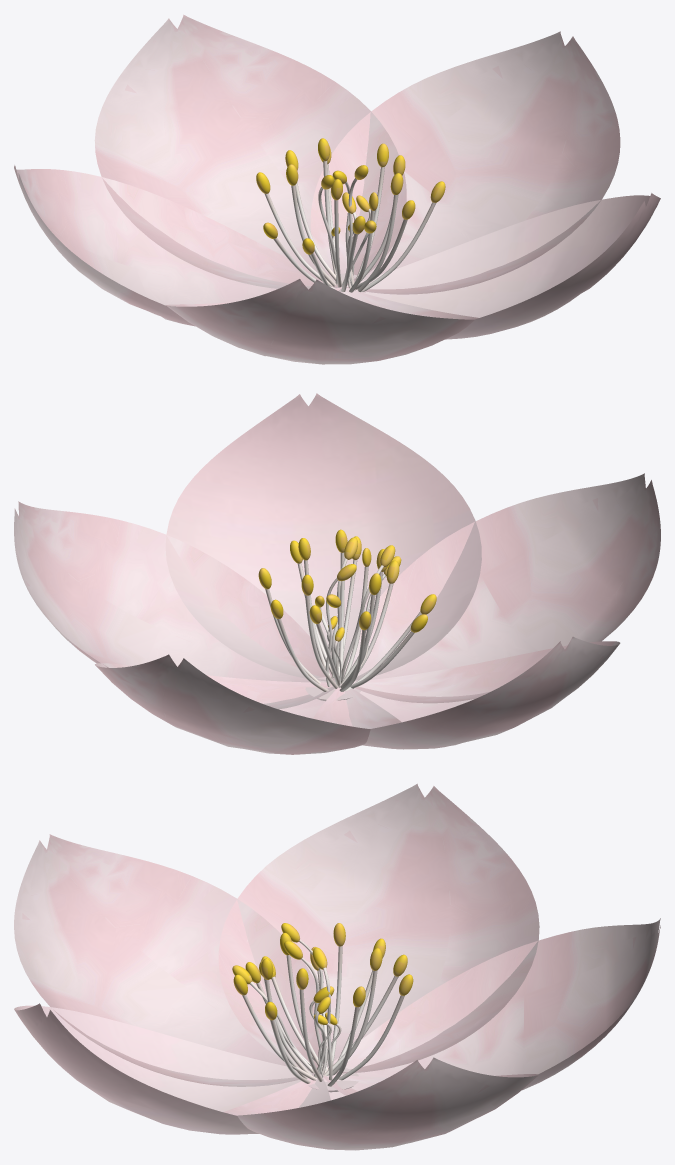
The model's file is cherryblossom.fbx.
3 renders of one model, top to bottom at view 1: azimuth 30°, elevation 25°; view 2: azimuth 150°, elevation 25°; view 3: azimuth 270°, elevation 25°, orthographic.
Visible parts, largest first — view 1: nurbsToPoly2, nurbsToPoly6, nurbsToPoly3, nurbsToPoly5, nurbsToPoly4, extrudedSurface13; view 2: nurbsToPoly5, nurbsToPoly4, nurbsToPoly6, nurbsToPoly3, nurbsToPoly2; view 3: nurbsToPoly3, nurbsToPoly4, nurbsToPoly2, nurbsToPoly5, nurbsToPoly6.
Part boxes in pixels (<box>): nurbsToPoly2: <box>94,14,406,289</box>; nurbsToPoly6: <box>310,31,620,294</box>; nurbsToPoly3: <box>14,165,341,326</box>; nurbsToPoly5: <box>342,193,660,339</box>; nurbsToPoly4: <box>165,279,478,364</box>; extrudedSurface13: <box>361,202,436,291</box>; nurbsToPoly5: <box>165,393,481,681</box>; nurbsToPoly4: <box>343,473,660,703</box>; nurbsToPoly6: <box>14,501,335,709</box>; nurbsToPoly3: <box>313,636,620,749</box>; nurbsToPoly2: <box>95,654,401,754</box>; nurbsToPoly3: <box>218,783,539,1073</box>; nurbsToPoly4: <box>14,834,330,1086</box>; nurbsToPoly2: <box>323,918,660,1095</box>; nurbsToPoly5: <box>14,1003,330,1134</box>; nurbsToPoly6: <box>224,1057,538,1150</box>.
Bounding box in the file's own units: 16.1 × 4.45 × 15.75.
